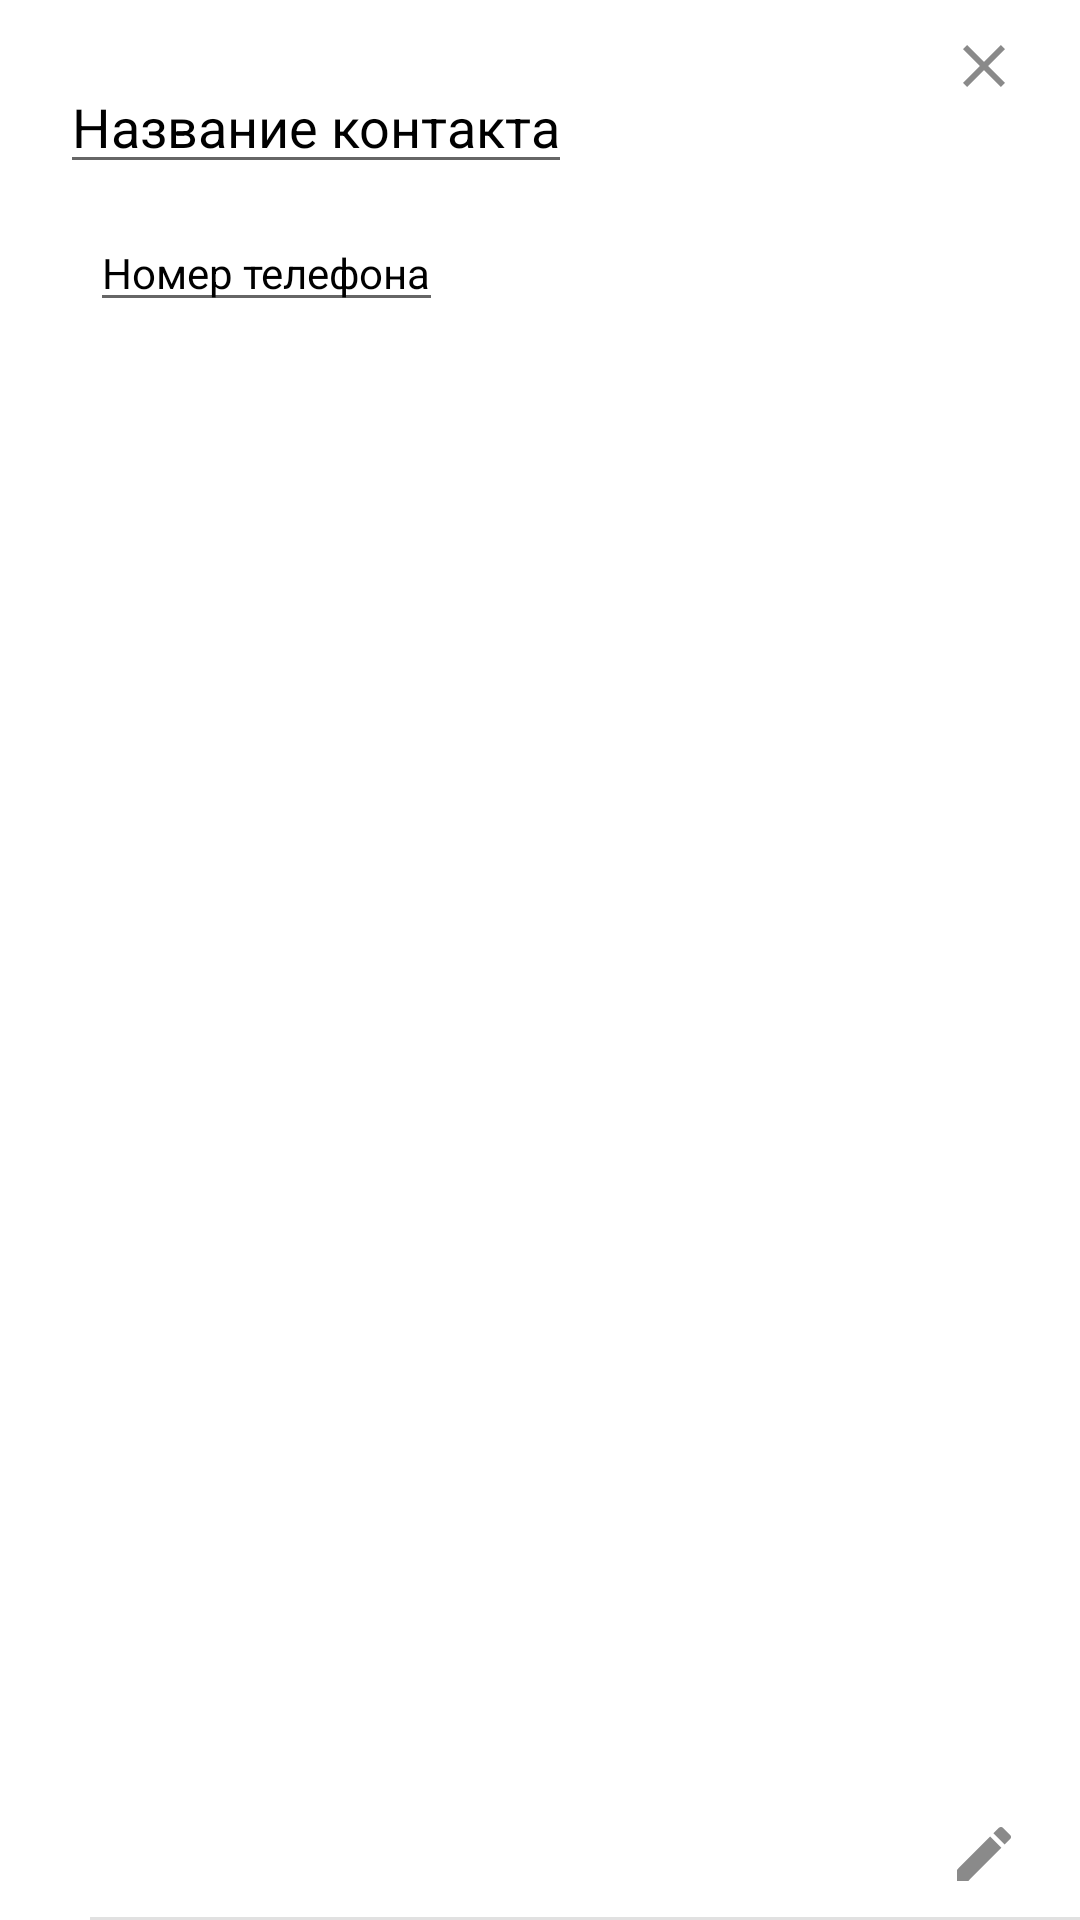

Icons on this 1080w x 1920h Android screen, each with its box as detection(x1, y1, x2, y2):
close: detection(963, 45, 1005, 87)
edit: detection(957, 1827, 1011, 1881)
